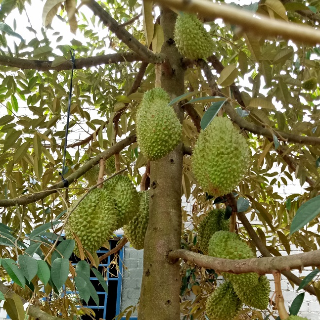sau_rieng: (194, 113, 254, 199), (131, 84, 187, 164), (69, 185, 119, 251)
